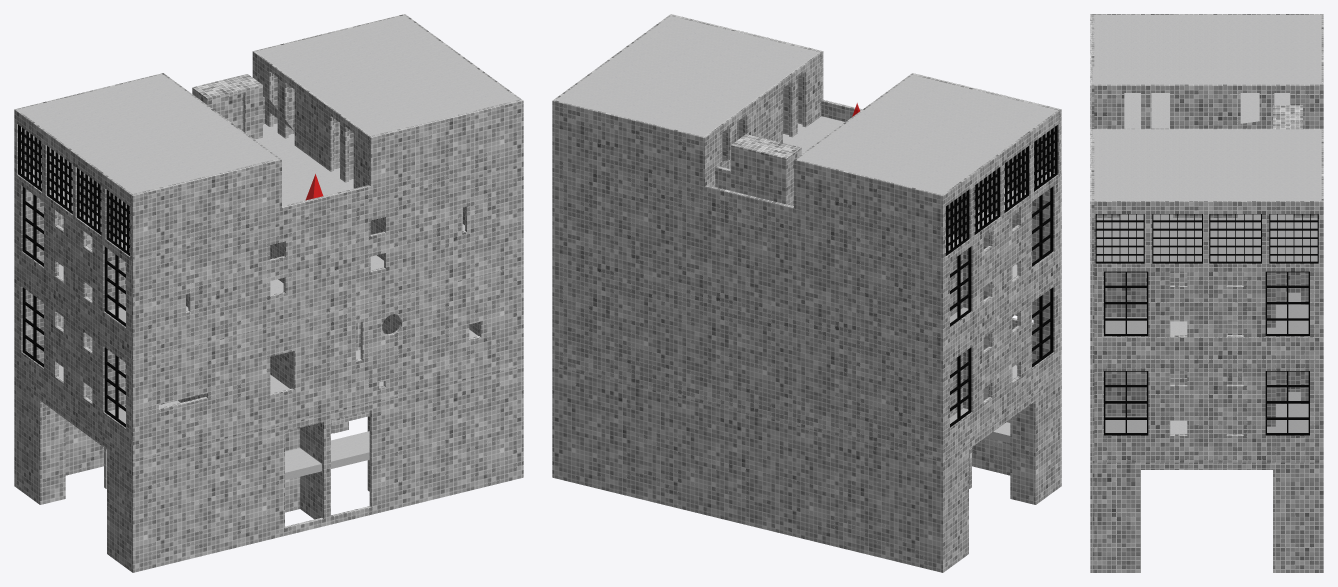
File: 20251029_BUILDIUNG 4 OVERALL.fbx
3 renders of one model, left to right at view 1: azimuth 30°, elevation 25°; view 2: azimuth 150°, elevation 25°; view 3: azimuth 270°, elevation 25°, orthographic.
Visible parts, largest first — view 1: WALL, SLAB, WINDOW; view 2: WALL, SLAB, WINDOW; view 3: WALL, SLAB, GLASS, WINDOW.
Part boxes in pixels (box(x1,y1,x2,y2)): WALL: box(14, 14, 523, 572); SLAB: box(17, 15, 519, 480); WINDOW: box(18, 125, 129, 427); WALL: box(552, 14, 1061, 572); SLAB: box(555, 16, 1057, 443); WINDOW: box(945, 125, 1057, 427); WALL: box(1090, 14, 1323, 572); SLAB: box(1092, 15, 1321, 434); GLASS: box(1097, 215, 1316, 432); WINDOW: box(1095, 214, 1318, 435).
Bounding box in the file's own units: 658 × 606 × 346.
6 materials, 3 textured.
